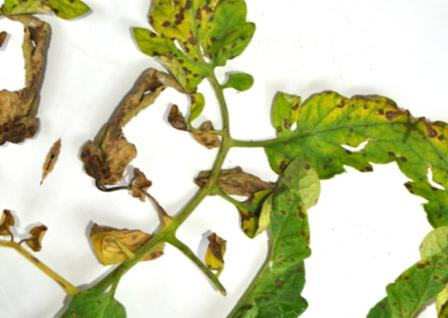Tomato Septoria leaf spot: (189, 142, 367, 318), (239, 52, 416, 222), (110, 0, 291, 104)
